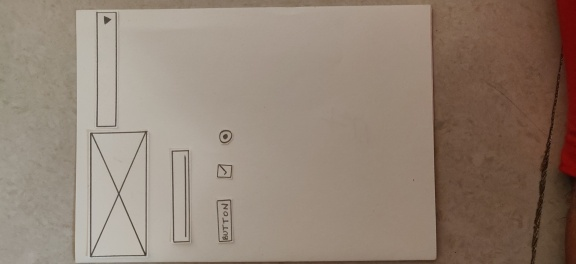button: (212, 196, 237, 247)
checkbox: (213, 161, 236, 181)
dropdown: (92, 10, 121, 128)
img: (84, 129, 153, 260)
radio: (215, 128, 235, 146)
text: (167, 147, 196, 246)
